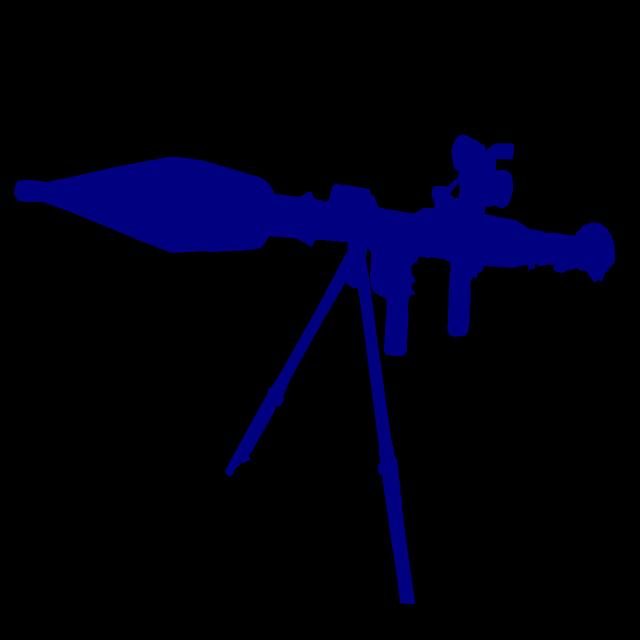grenade: (12, 150, 296, 267)
rocket: (224, 132, 616, 600)
